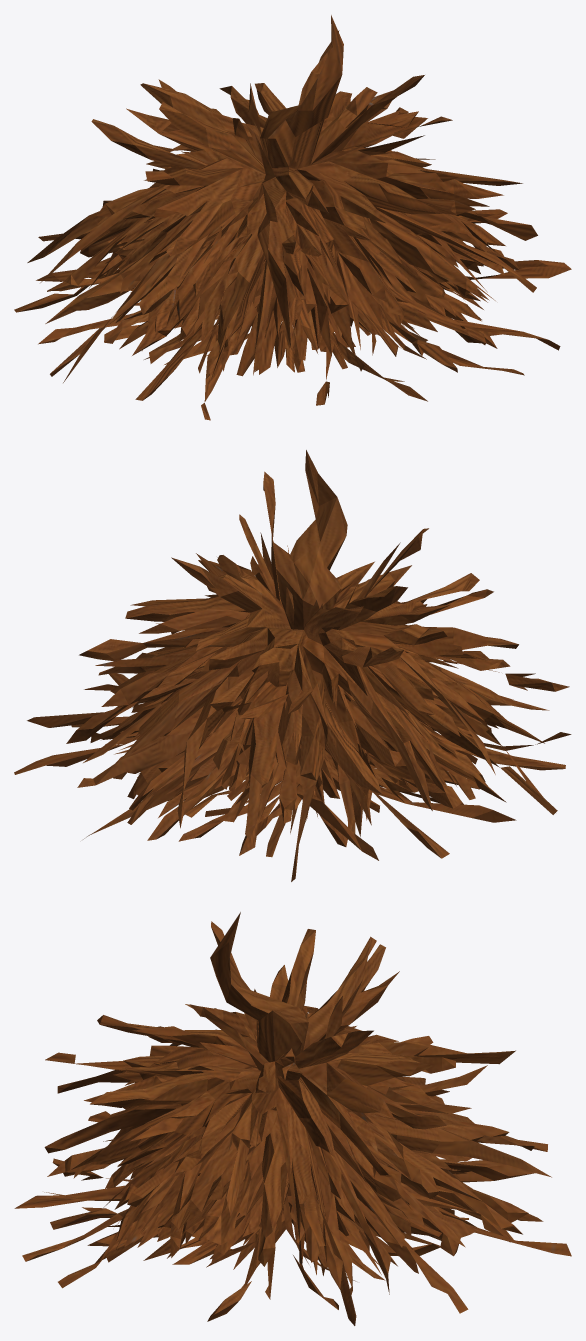
3 renders of one model, top to bottom at view 1: azimuth 30°, elevation 25°; view 2: azimuth 150°, elevation 25°; view 3: azimuth 270°, elevation 25°, orthographic. The views are drawn at different scales.
Size of the model in its own units: 1.9 by 1.12 by 1.8.
Materials: 1 (1 with a texture image).
